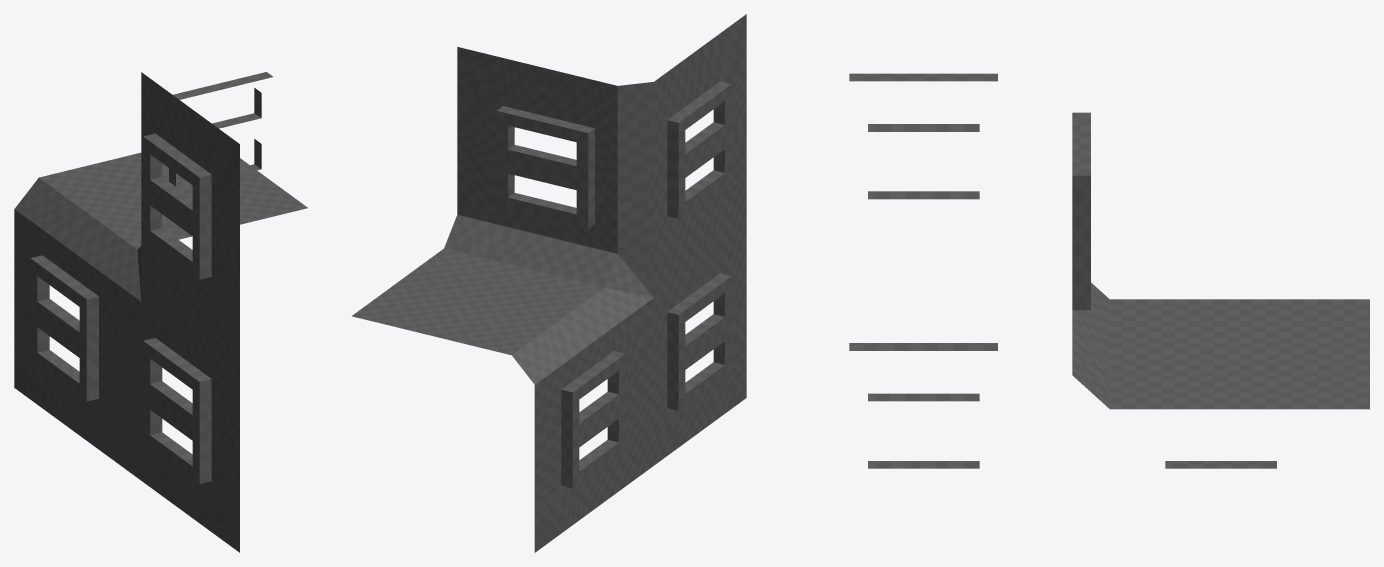
The picture shows the model from 3 angles, left to right: view 1: azimuth 30°, elevation 25°; view 2: azimuth 150°, elevation 25°; view 3: azimuth 270°, elevation 25°; orthographic projection. The views are drawn at different scales.
Visible parts, largest first — view 1: 4; view 2: 4; view 3: 4.
Boxes of the visible parts, x1,y1,x2,y2 form: 4: (14, 72, 307, 552); 4: (352, 14, 746, 552); 4: (849, 73, 1369, 468).
Bounding box in the file's own units: 2.12 × 4 × 4.
Materials: 2 (2 with a texture image).
